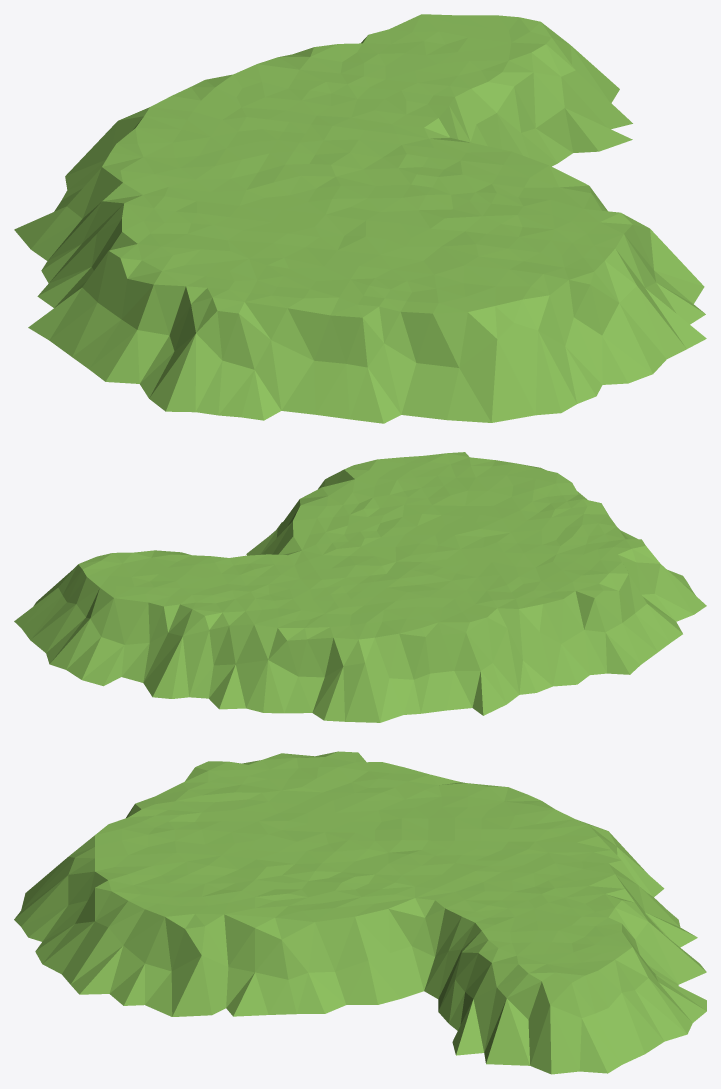
File: MT_Island_L_a_06_LOD.fbx
3 views of the same model, one above another, from view 1: azimuth 30°, elevation 25°; view 2: azimuth 150°, elevation 25°; view 3: azimuth 270°, elevation 25° (orthographic). The views are drawn at different scales.
Visible parts, largest first — view 1: MT_Island_L_a_06_LOD0; view 2: MT_Island_L_a_06_LOD0; view 3: MT_Island_L_a_06_LOD0.
Part boxes in pixels (x1=…): MT_Island_L_a_06_LOD0: x1=14, y1=14, x2=706, y2=423; MT_Island_L_a_06_LOD0: x1=14, y1=452, x2=706, y2=722; MT_Island_L_a_06_LOD0: x1=14, y1=751, x2=706, y2=1074.
Size of what is drawn, in the model's own units: 7911 by 856 by 8118.
